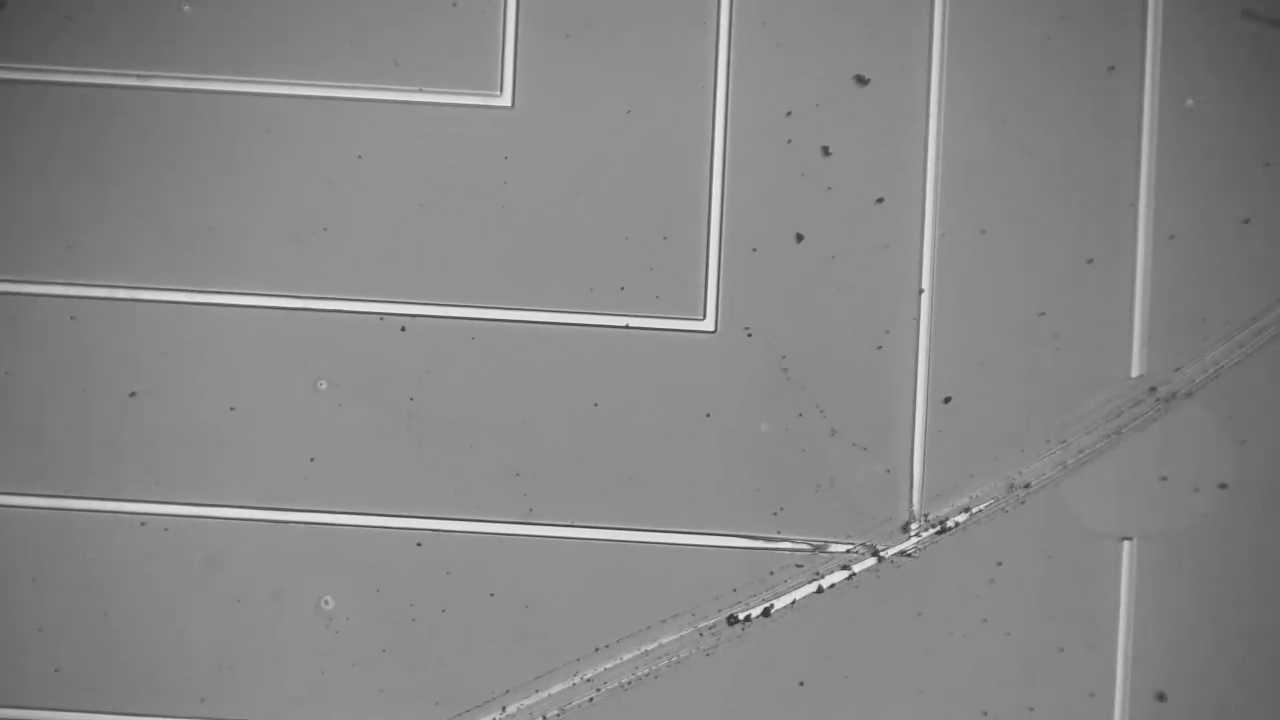open: (1082, 347, 1181, 590)
scratch: (918, 201, 1279, 558), (437, 560, 877, 720)
